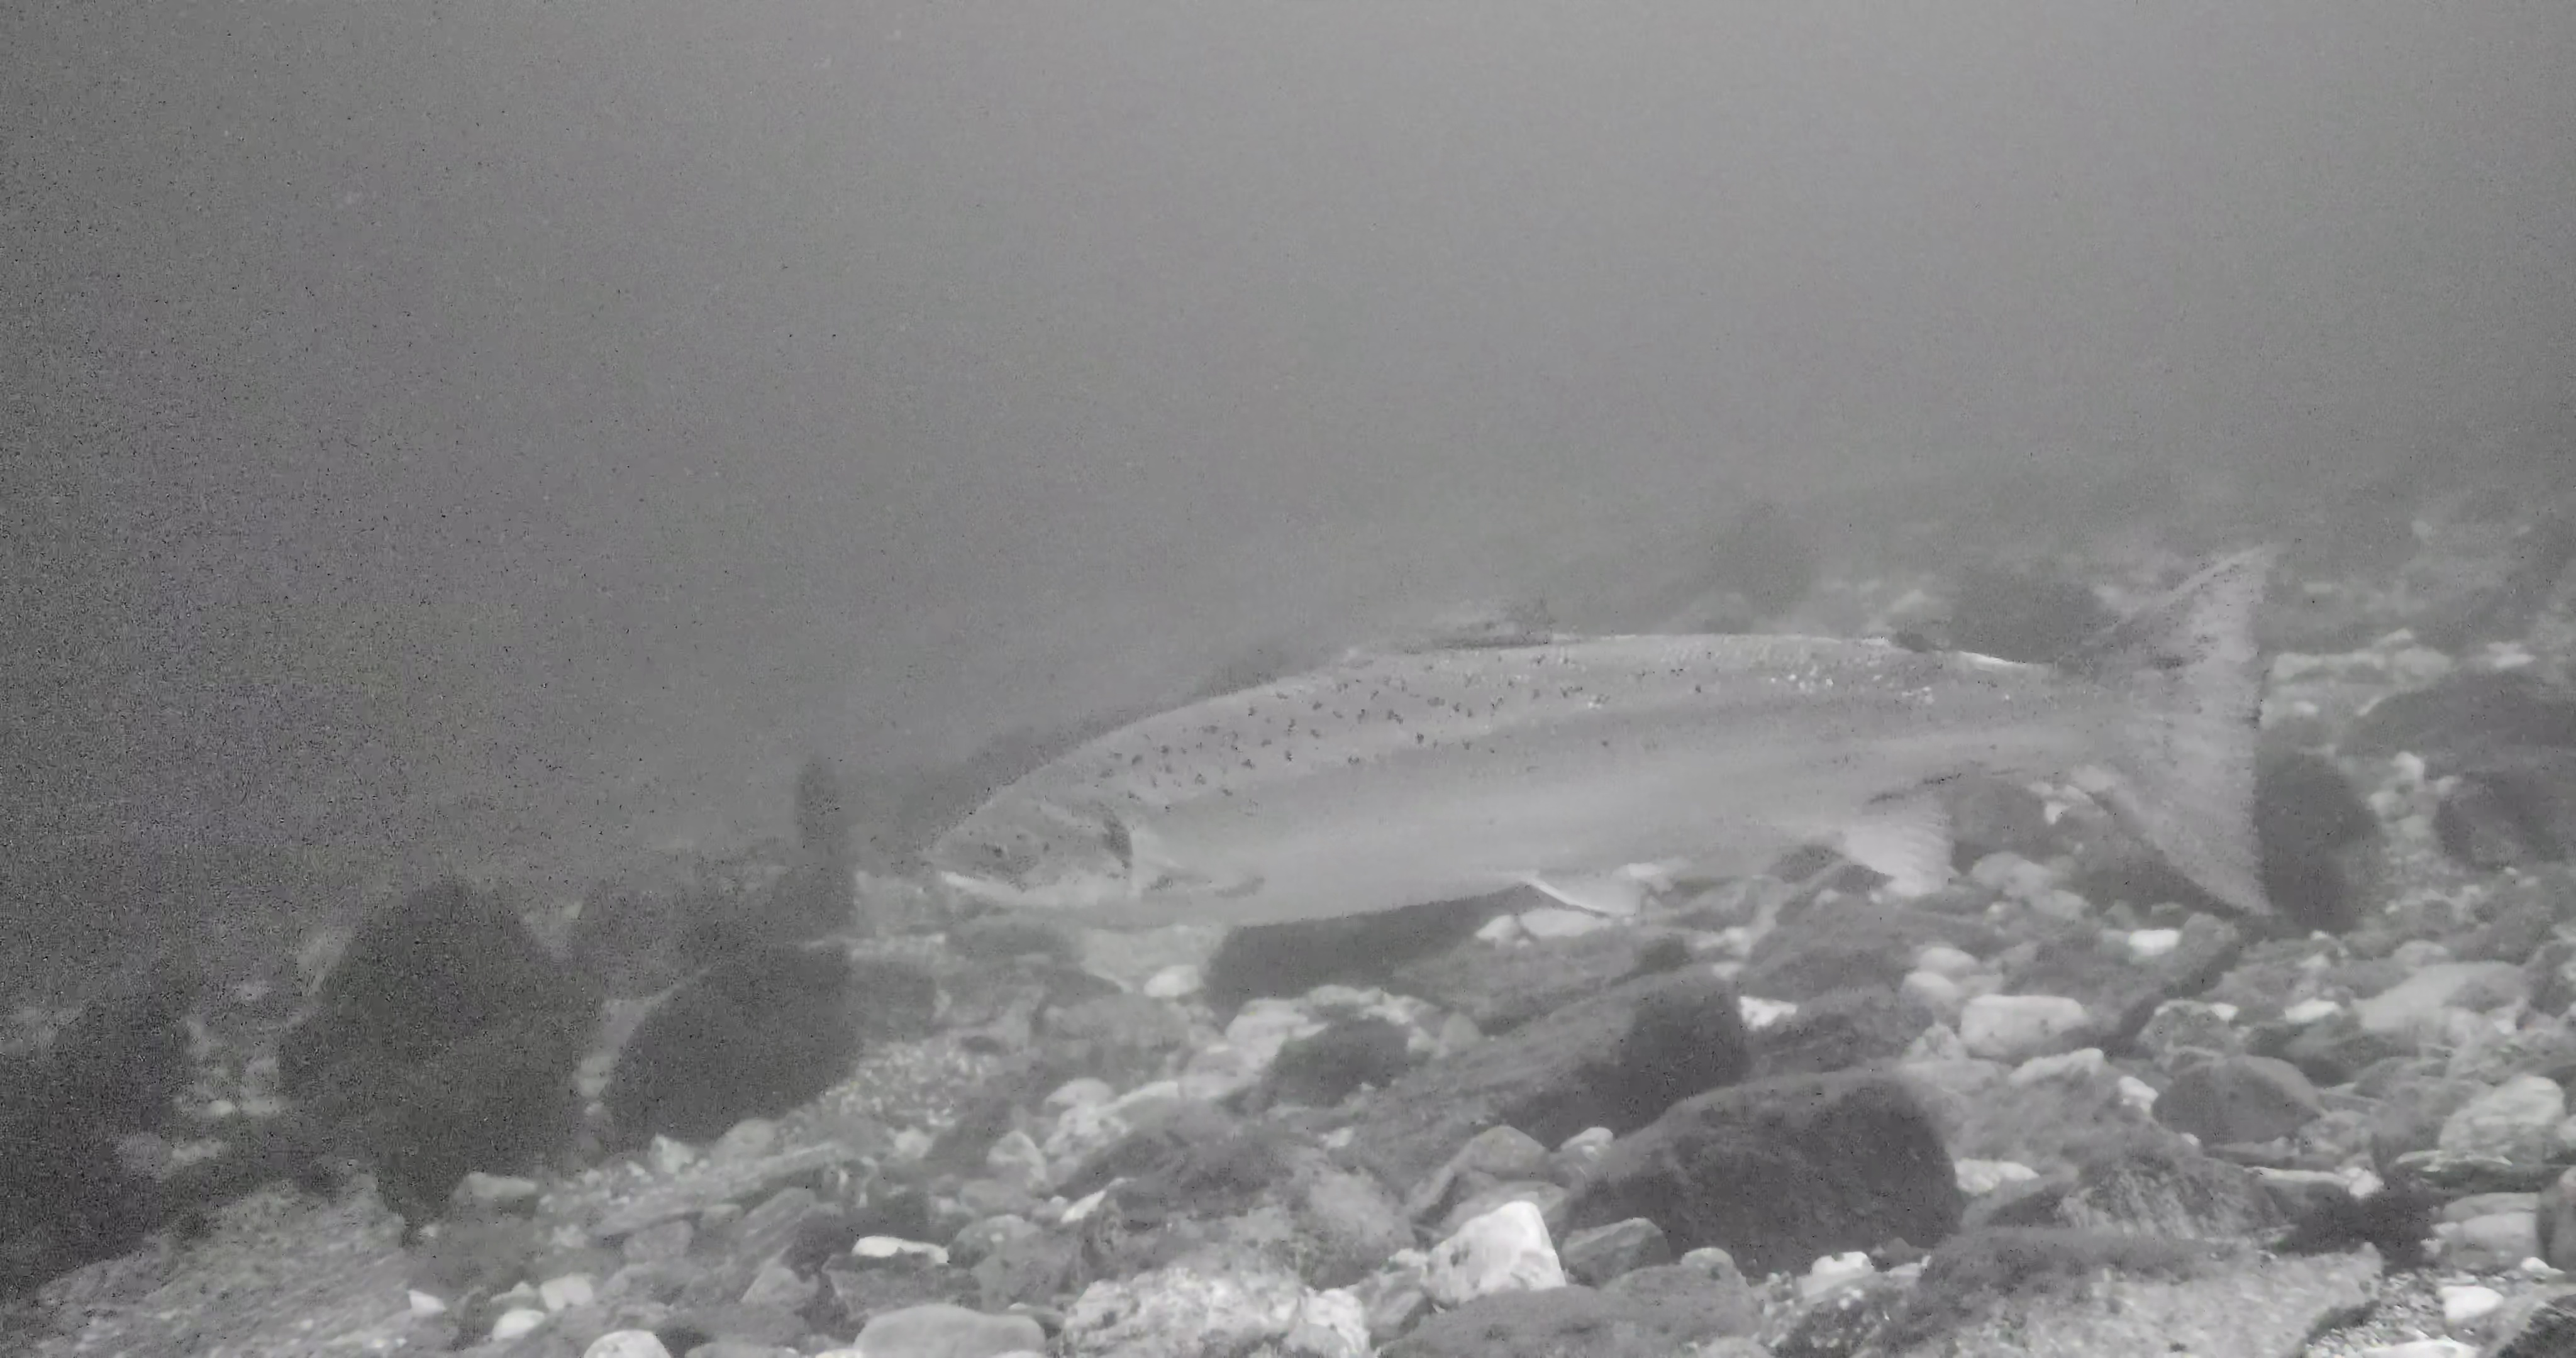salmon: (923, 538, 2286, 935)
